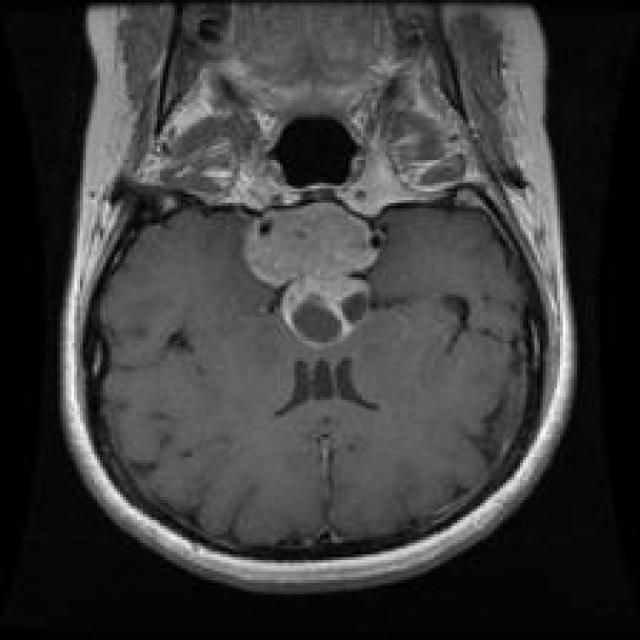pituitary_tumor: (234, 189, 390, 350)
